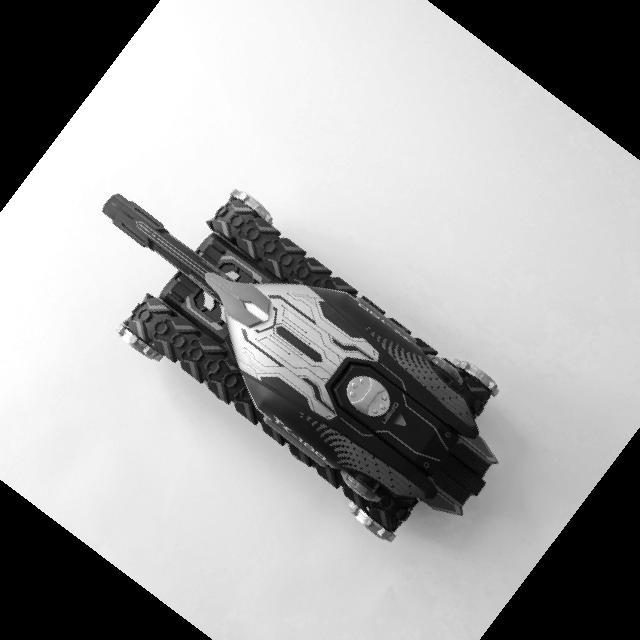barrel: (101, 191, 240, 303)
